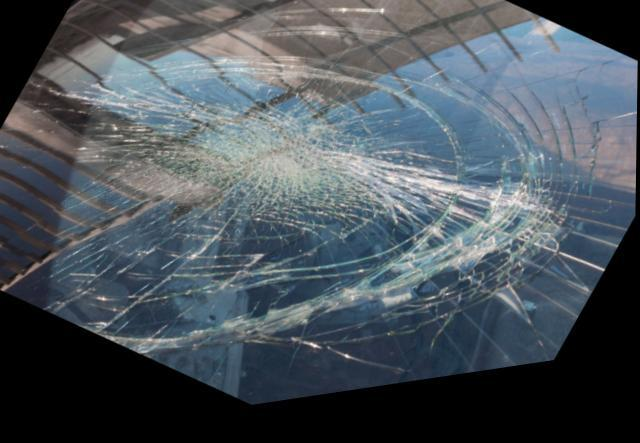glass shatter: (0, 0, 638, 413)
